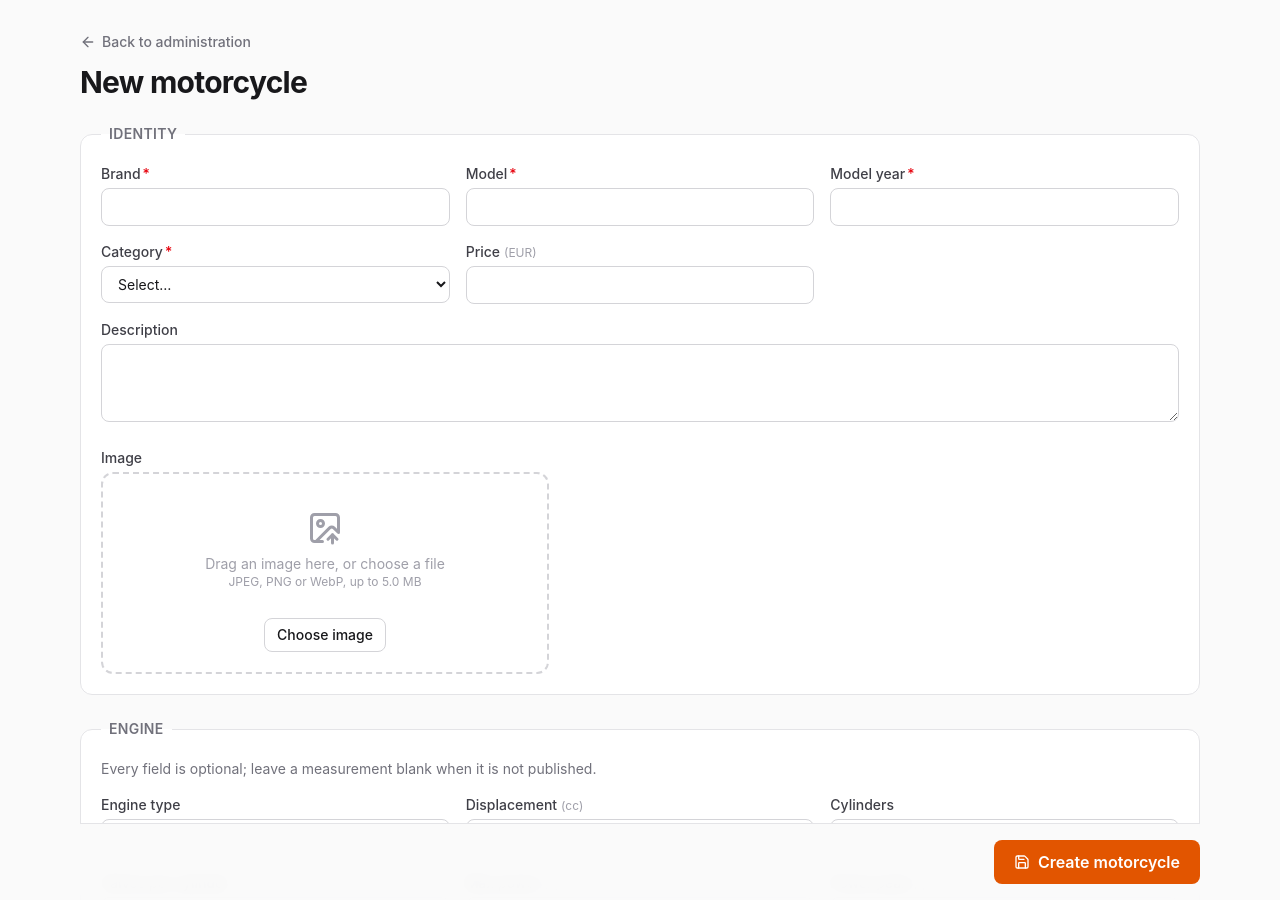
it: AdminMotorcycleFormPage create › rejects a model year outside the range the API accepts
The width and height of the screenshot is (1280, 900).
Type "Yamaha" into the field labelled "Brand" at (275, 207), box [101,188,450,226]
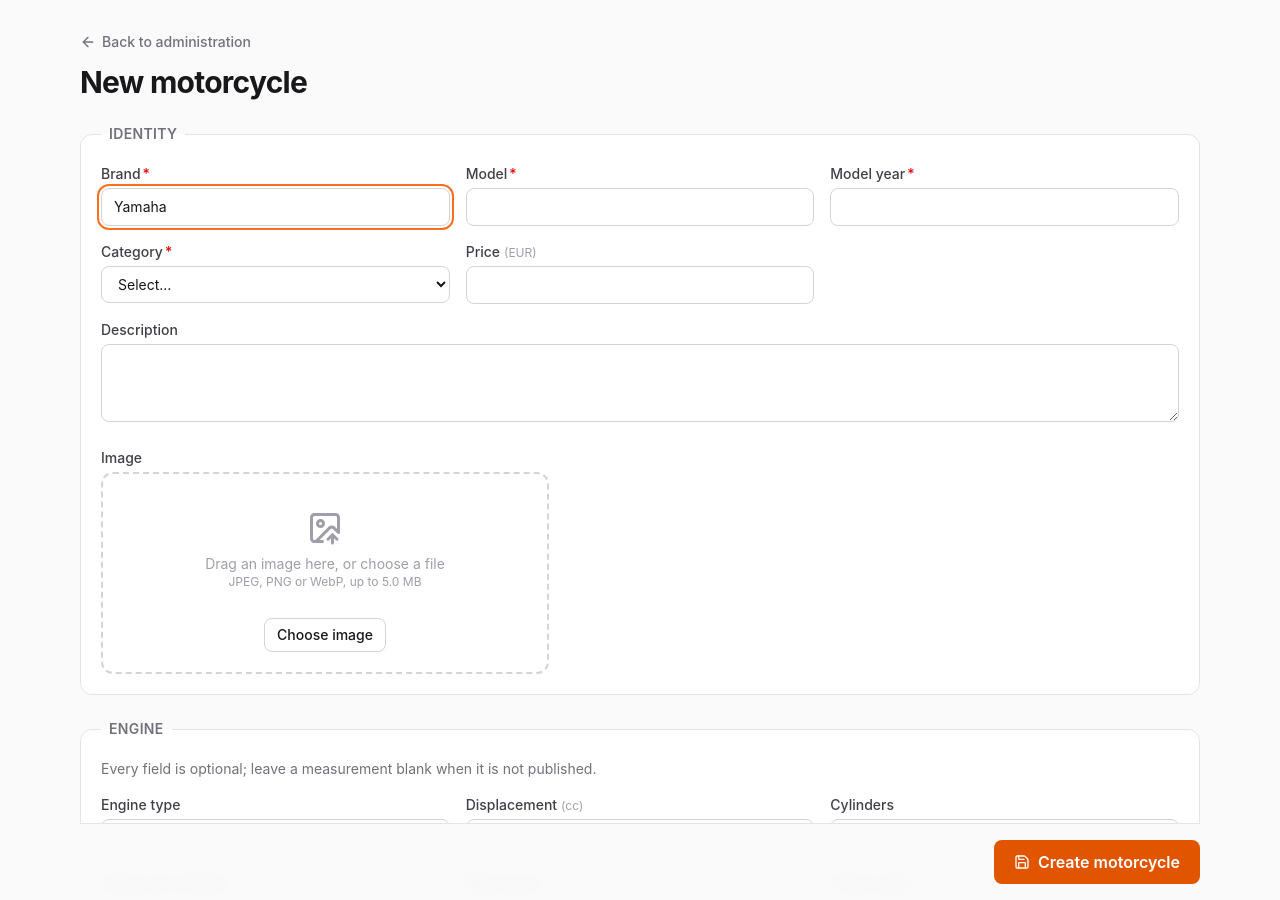
Type "MT-07" into the field labelled "Model" at (640, 207), box [466,188,814,226]
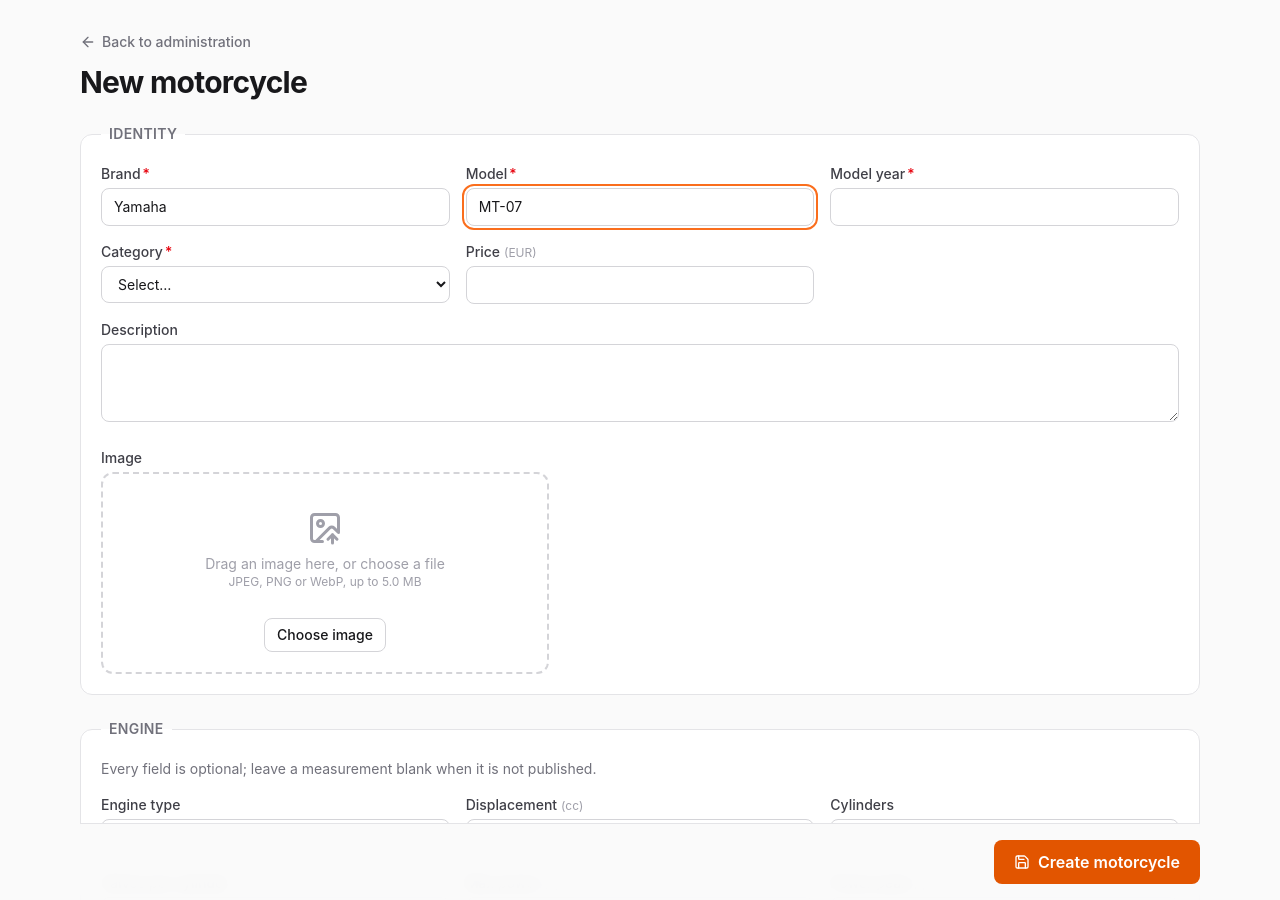
Select "Naked" in the dropdown labelled "Category" at (275, 284), box [101,266,450,303]
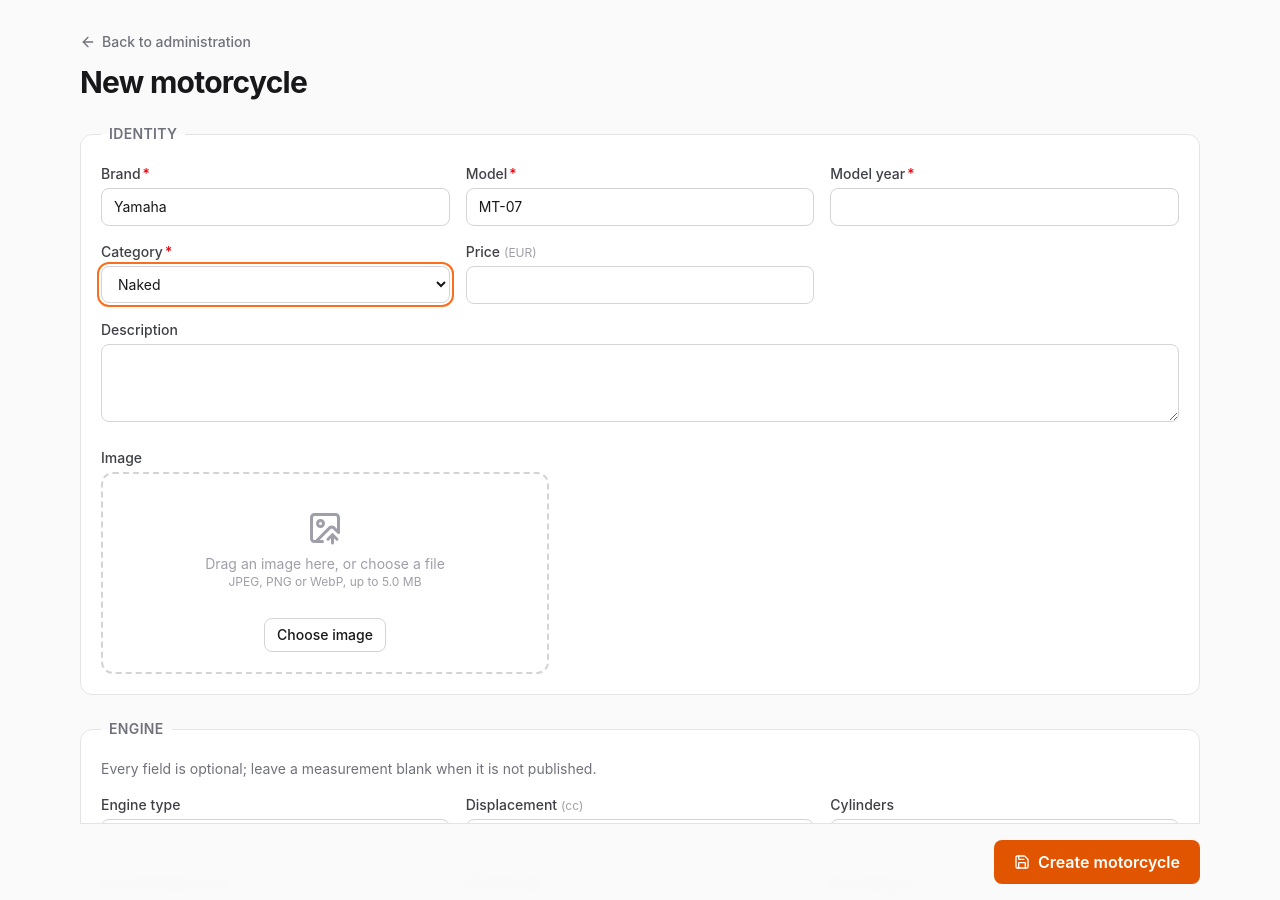
Type "1600" into the number field labelled "Model year" at (1005, 207), box [830,188,1179,226]
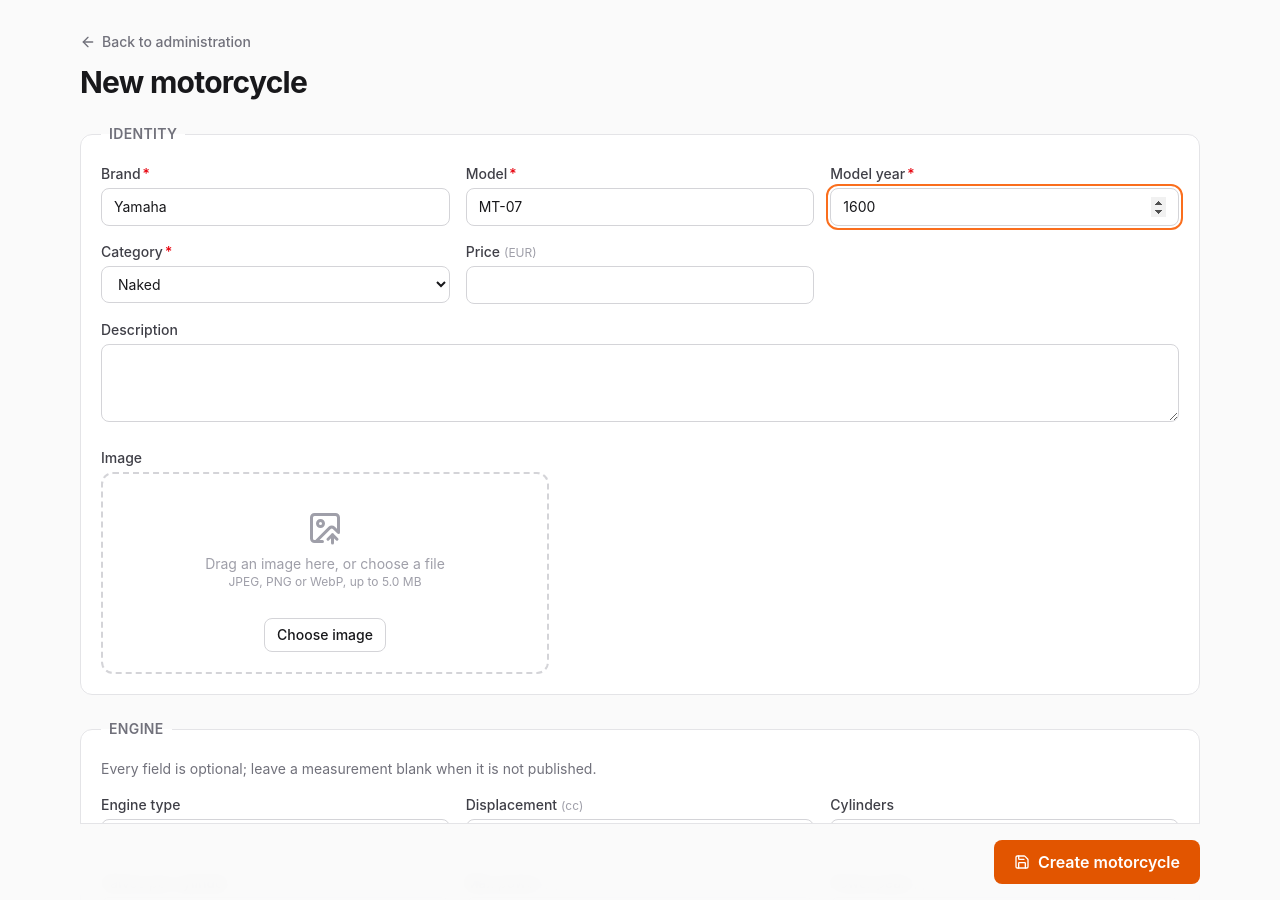
Click the button "Create motorcycle" at (1097, 862), box [994,840,1200,884]
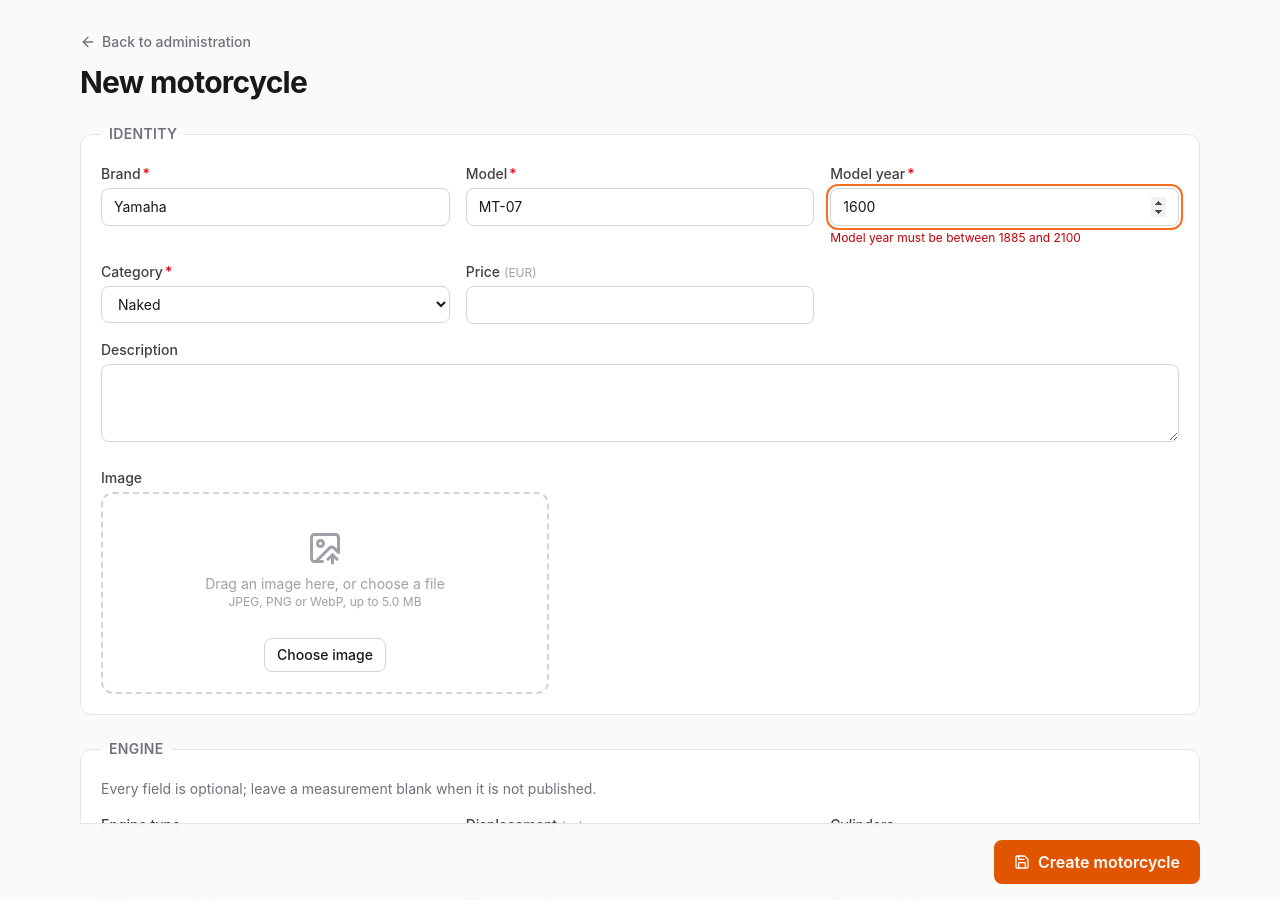
Check: the text "Model year must be between 1885 and 2100" is shown, box [830,230,1081,245]
